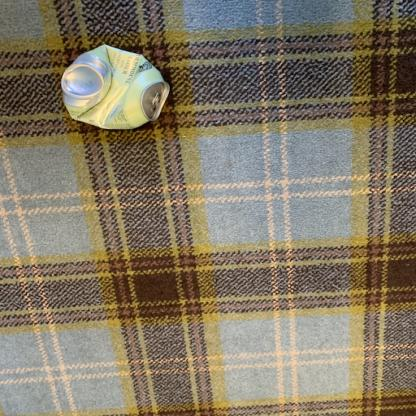trash: (60, 43, 169, 134)
